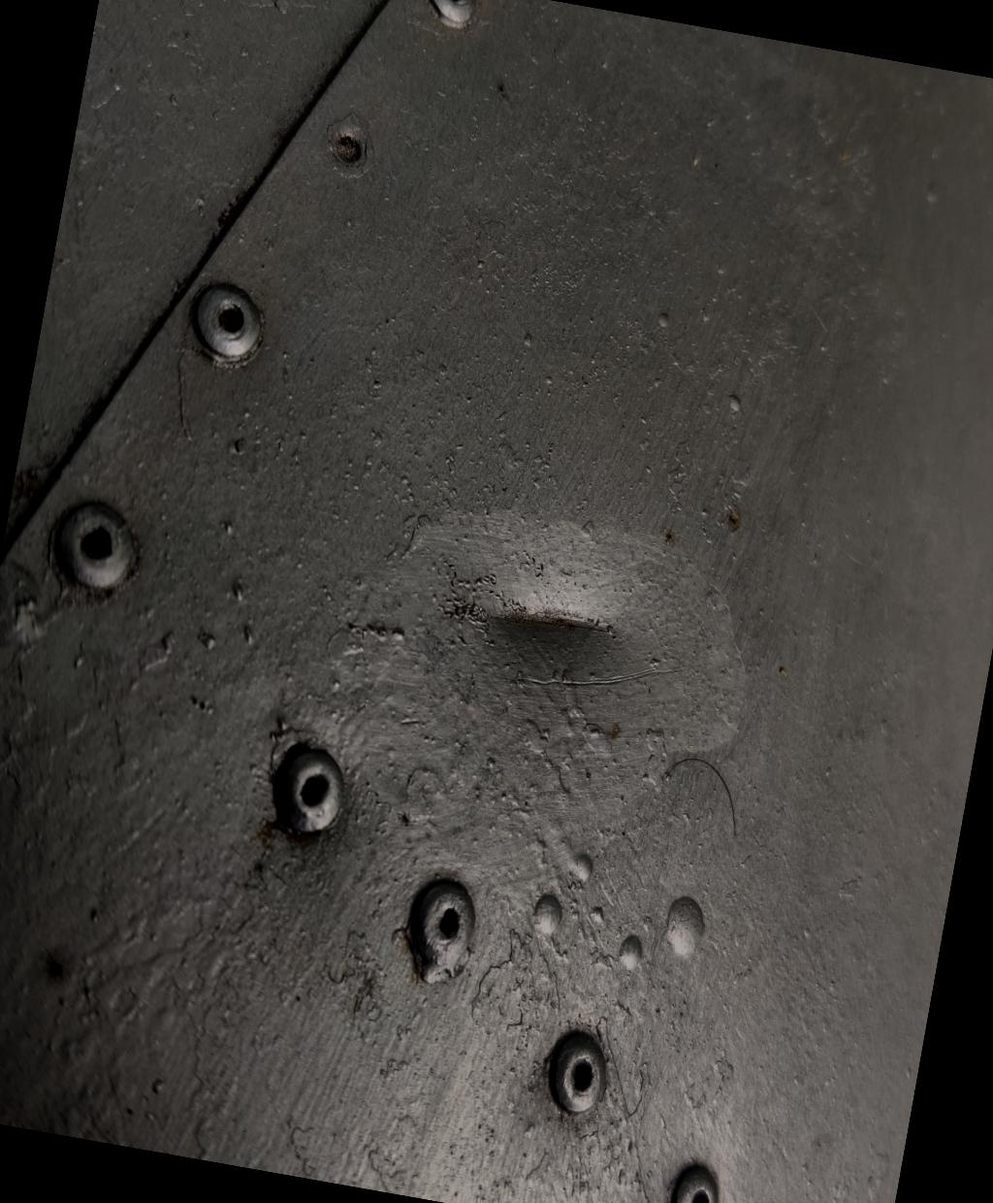dent: (364, 355, 687, 731)
